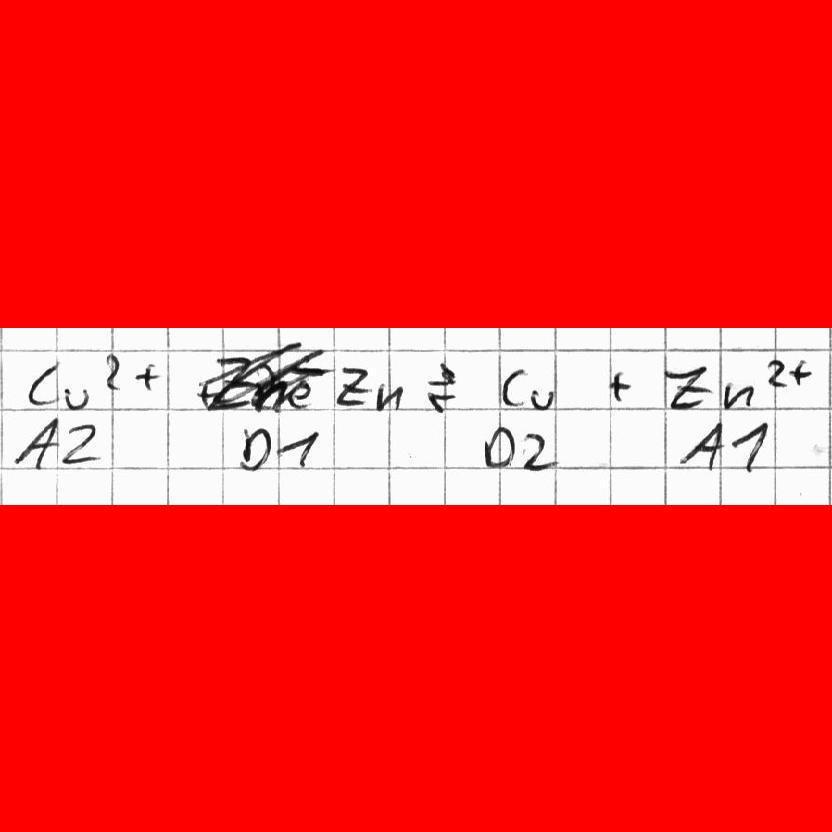Char: (661, 361, 714, 411), (678, 420, 725, 469), (14, 418, 59, 468), (732, 421, 767, 476), (237, 422, 271, 475), (482, 422, 516, 471), (25, 360, 58, 410), (278, 429, 317, 471), (60, 422, 99, 464), (333, 365, 370, 409), (424, 364, 456, 414), (520, 429, 555, 472), (497, 366, 526, 412), (722, 380, 755, 410), (373, 382, 404, 411), (607, 368, 632, 403), (103, 352, 123, 392), (63, 383, 89, 412), (134, 361, 157, 390), (790, 356, 812, 386), (765, 357, 787, 386), (529, 385, 553, 411)
